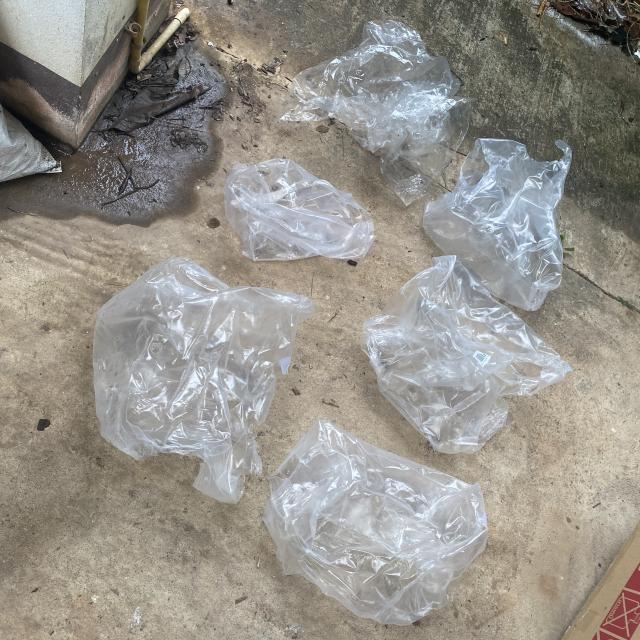Single-layer Plastic: (92, 258, 315, 502), (264, 420, 489, 625), (361, 255, 571, 454), (280, 20, 471, 205), (422, 139, 571, 310), (224, 159, 374, 261)
